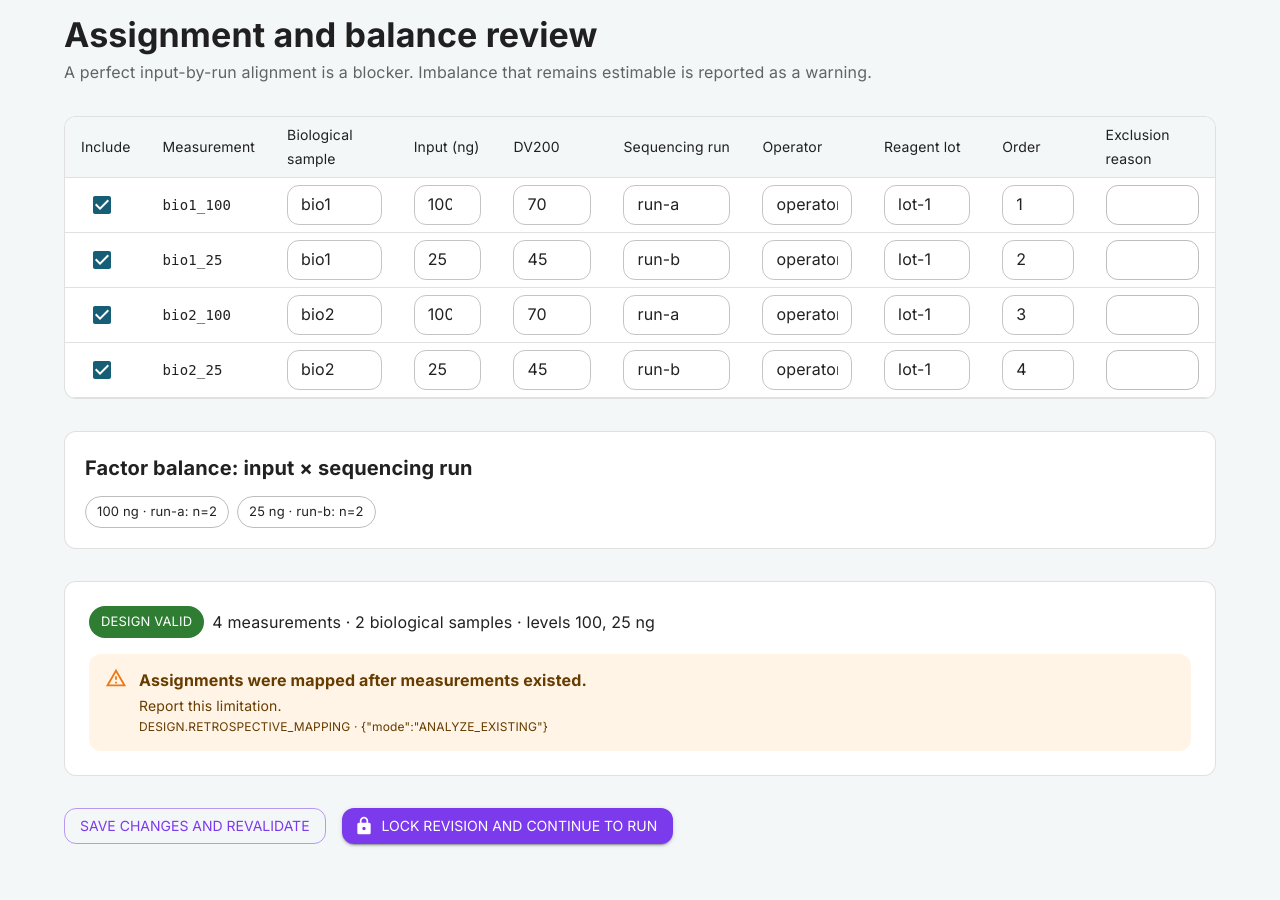
Test case: shows design evidence and makes the lock-to-run transition explicit
(page scrolled)
Check: the text "Assignments were mapped after measurements existed." is shown, box [139,668,587,692]
Click the button "Lock revision and continue to run" at [507, 826], box [342,808,673,844]
(page scrolled)
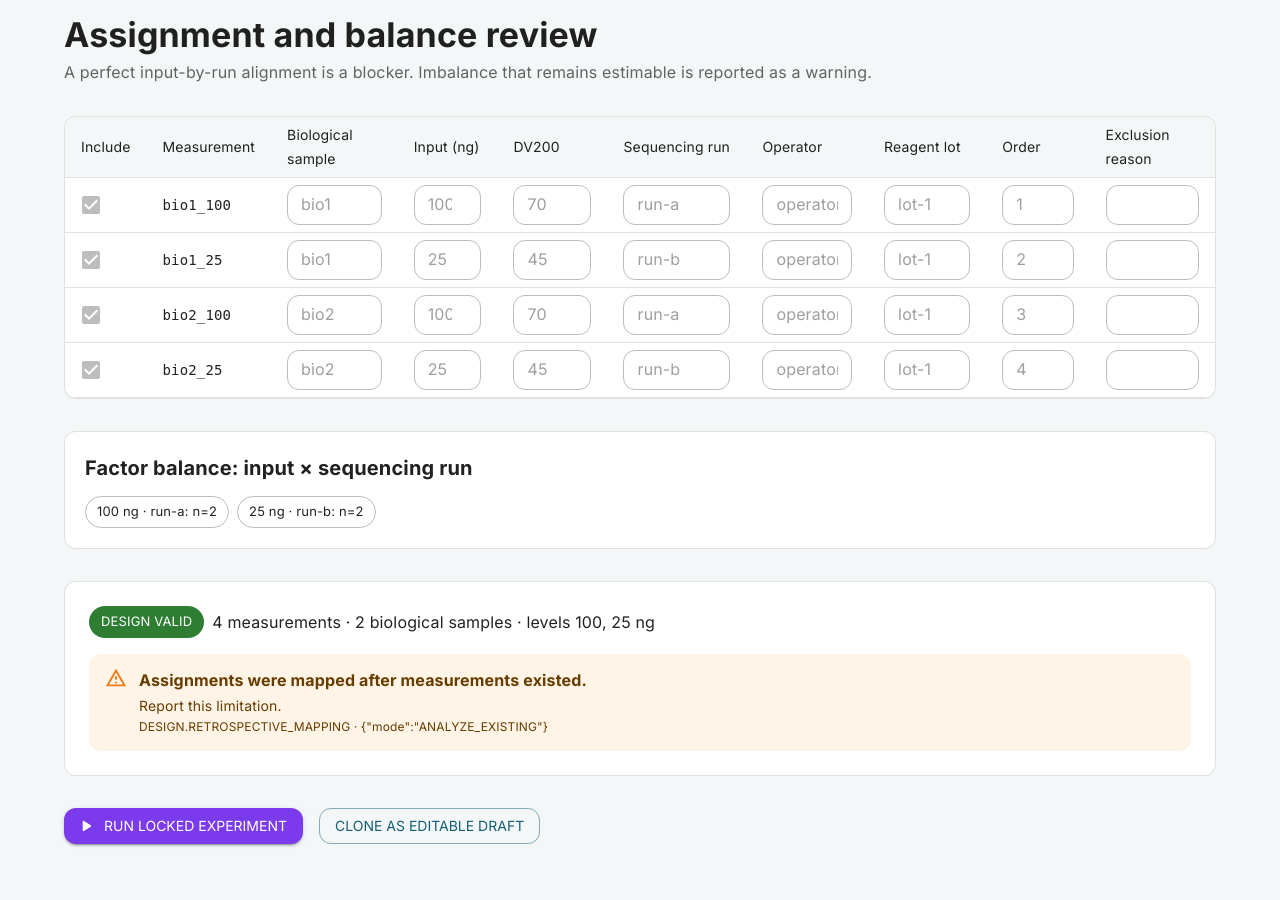
Check: the button "Run locked experiment" is shown, box [64,808,303,844]
